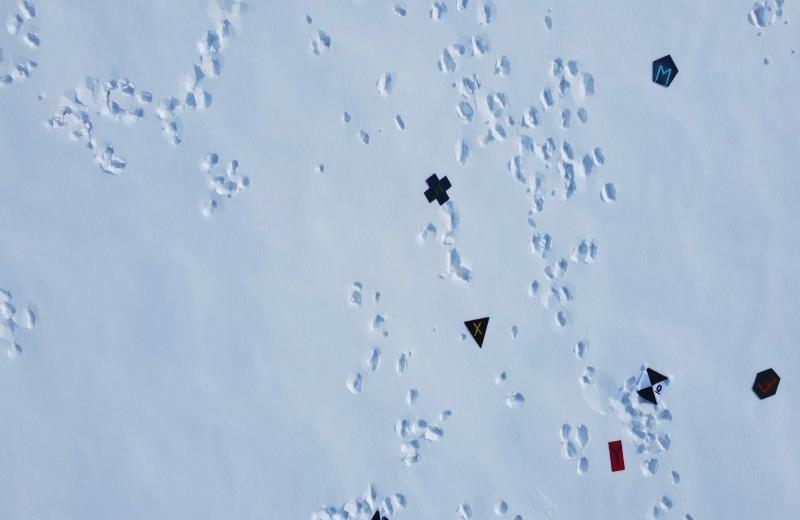Cross: (424, 172, 453, 205)
Hexagon: (752, 368, 781, 402)
Pentagon: (650, 54, 679, 90)
Rectangle: (608, 437, 625, 474)
Triangle: (465, 315, 495, 350)
